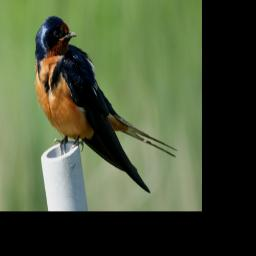Swallow: (33, 12, 178, 191)
